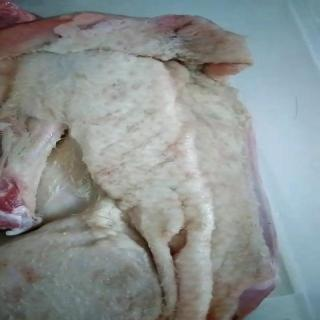Ayam: (1, 1, 282, 320)
